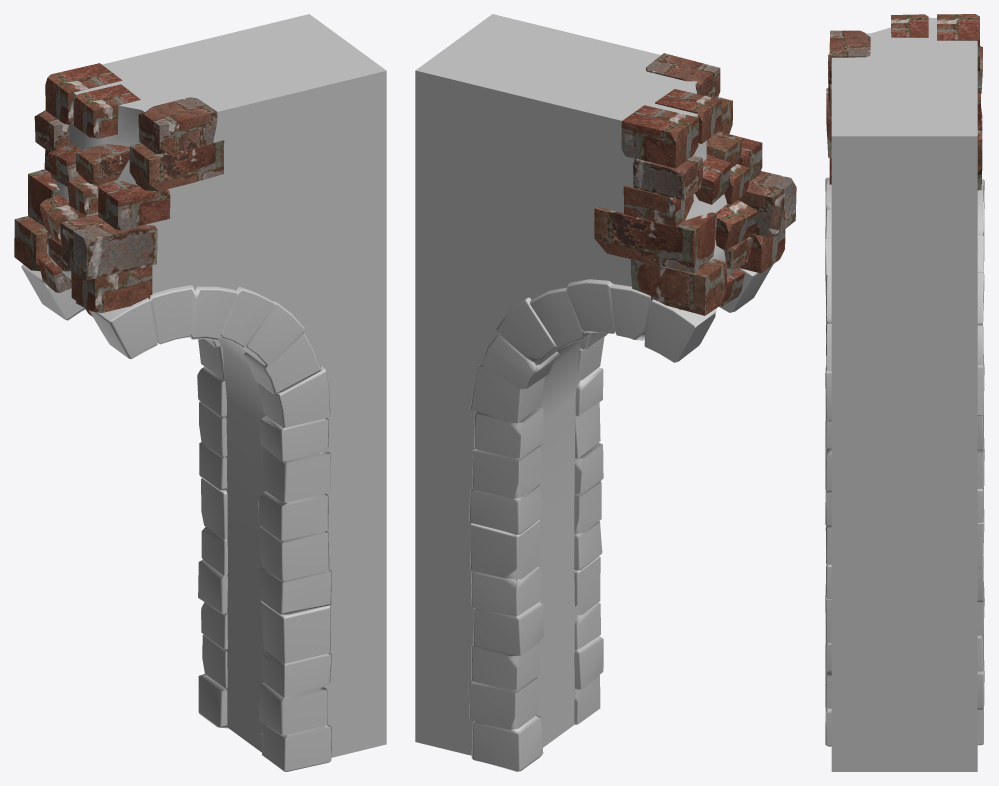
File: SM_Archway_Thick_Ruined_01.fbx
The picture shows the model from 3 angles, left to right: view 1: azimuth 30°, elevation 25°; view 2: azimuth 150°, elevation 25°; view 3: azimuth 270°, elevation 25°; orthographic projection. The views are drawn at different scales.
Parts seen in each view (by area): view 1: SM_Archway_Thick_Ruined_01_LOD0; view 2: SM_Archway_Thick_Ruined_01_LOD0; view 3: SM_Archway_Thick_Ruined_01_LOD0.
Boxes of the visible parts, bbox=[...] form: SM_Archway_Thick_Ruined_01_LOD0: bbox=[14, 14, 386, 771]; SM_Archway_Thick_Ruined_01_LOD0: bbox=[415, 14, 796, 771]; SM_Archway_Thick_Ruined_01_LOD0: bbox=[825, 14, 984, 771].
Size of what is drawn, in the model's own units: 283 by 604 by 136.
